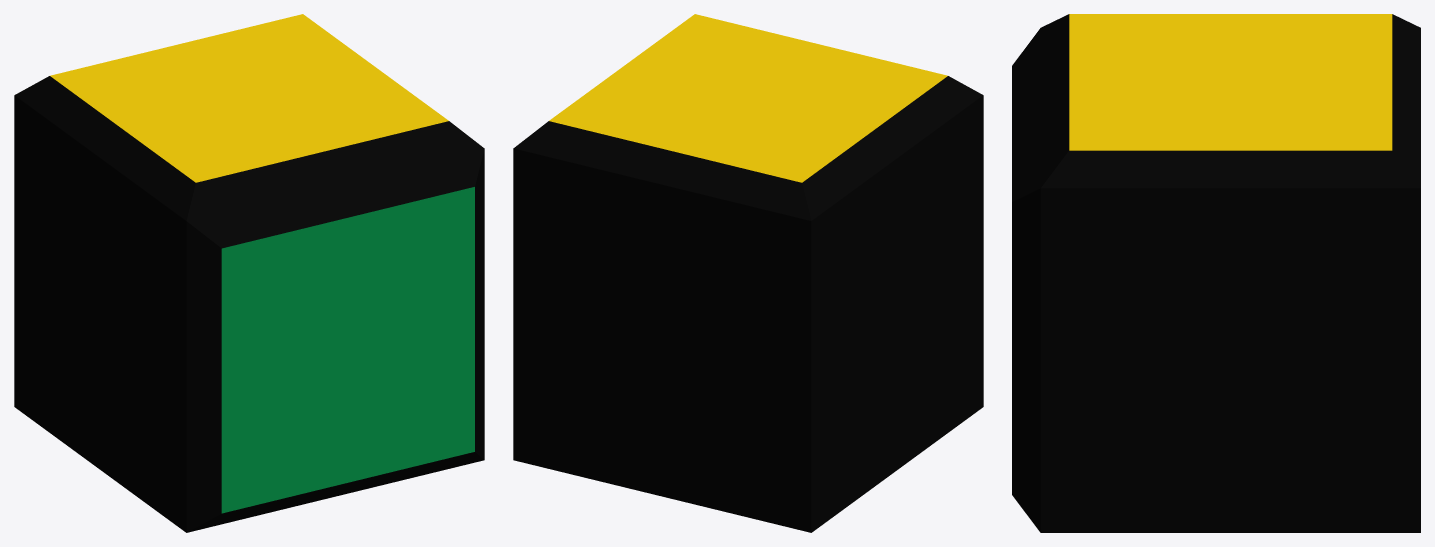
The model's file is rubiks_cube_2.glb.
3 views of the same model, side by side, from view 1: azimuth 30°, elevation 25°; view 2: azimuth 150°, elevation 25°; view 3: azimuth 270°, elevation 25° (orthographic). The views are drawn at different scales.
Visible parts, largest first — view 1: Cube2.001; view 2: Cube2.001; view 3: Cube2.001.
Part boxes in pixels (x1,y1,x2,y2): Cube2.001: (14, 14, 484, 532); Cube2.001: (513, 14, 983, 532); Cube2.001: (1012, 14, 1420, 532).
Bounding box in the file's own units: 2 × 2.15 × 2.15.
